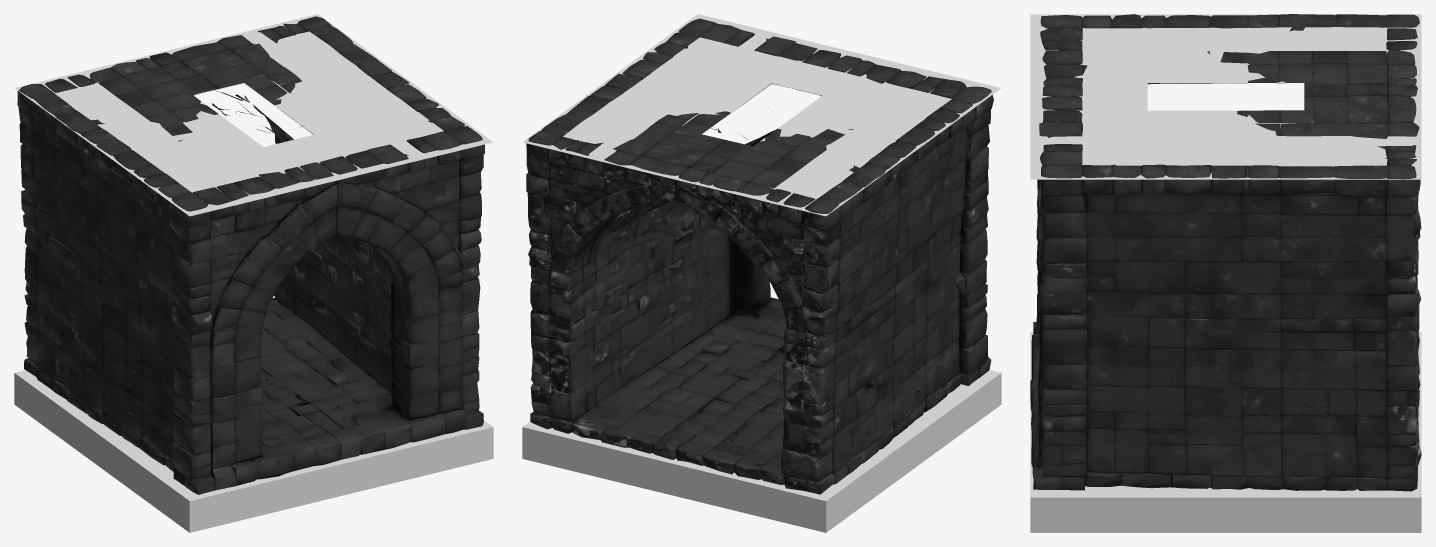
The model's file is module_straight_sky.glb.
3 views of the same model, side by side, from view 1: azimuth 30°, elevation 25°; view 2: azimuth 150°, elevation 25°; view 3: azimuth 270°, elevation 25° (orthographic). The views are drawn at different scales.
Parts seen in each view (by area): view 1: tripo_node_d1f22615-8681-4910-b354-69580f6371b2; view 2: tripo_node_d1f22615-8681-4910-b354-69580f6371b2; view 3: tripo_node_d1f22615-8681-4910-b354-69580f6371b2.
Boxes of the visible parts, left/top/right/bottom form: tripo_node_d1f22615-8681-4910-b354-69580f6371b2: left=14, top=14, right=493, bottom=532; tripo_node_d1f22615-8681-4910-b354-69580f6371b2: left=522, top=14, right=1001, bottom=532; tripo_node_d1f22615-8681-4910-b354-69580f6371b2: left=1030, top=14, right=1421, bottom=532.
Bounding box in the file's own units: 6 × 6 × 6.
2 materials, 1 textured.
